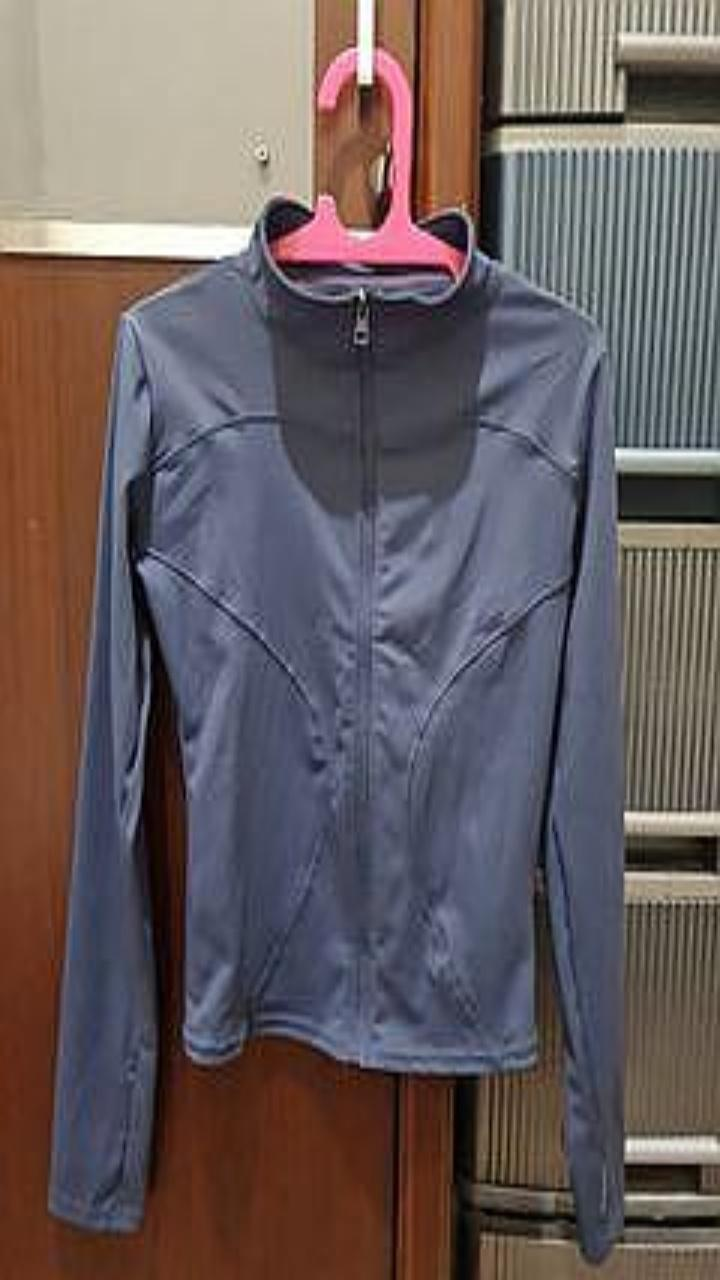Sports_Jacket: (49, 194, 623, 1262)
